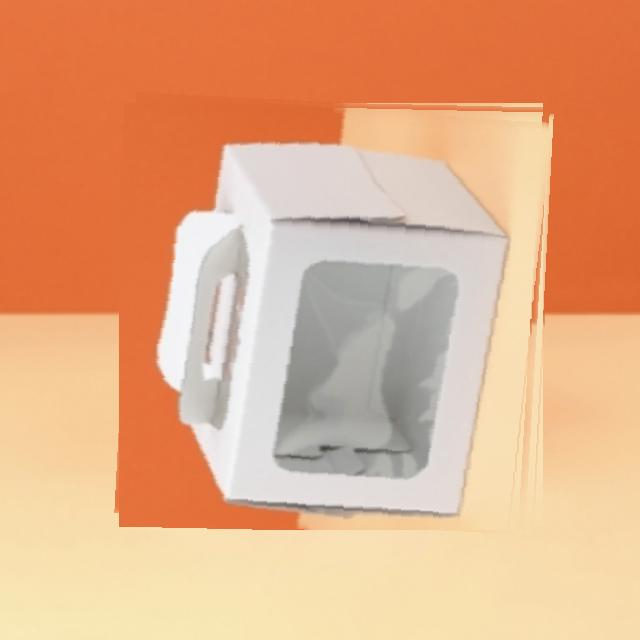biodegradable: (119, 98, 550, 530)
